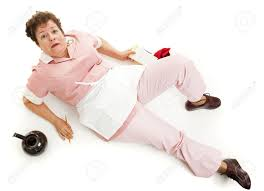collapsed: (4, 2, 262, 191)
